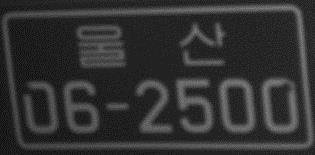-: (103, 98, 131, 116)
0: (260, 75, 301, 135), (19, 78, 61, 134), (217, 76, 256, 135)
2: (133, 78, 174, 136)
5: (175, 76, 213, 137)
6: (62, 78, 99, 134)
울산_D: (73, 20, 228, 71)
